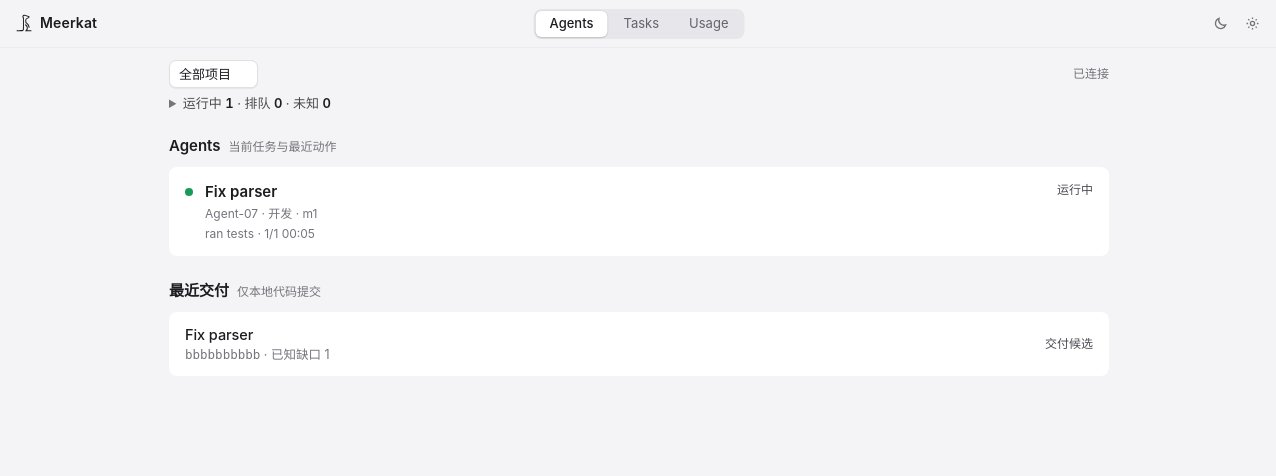
Test case: App › shows stop acceptance separately from a stopped run and reuses the requestId
Click the button with class "row-btn": (241, 191) x1=169 y1=167 x2=1109 y2=256
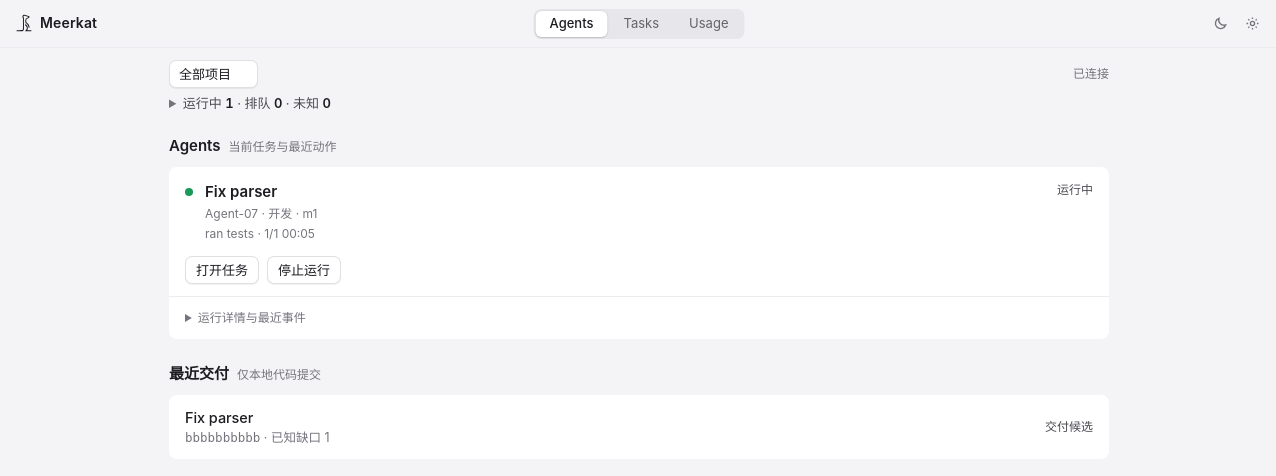
Click the button "停止运行": (304, 270) x1=267 y1=256 x2=341 y2=284
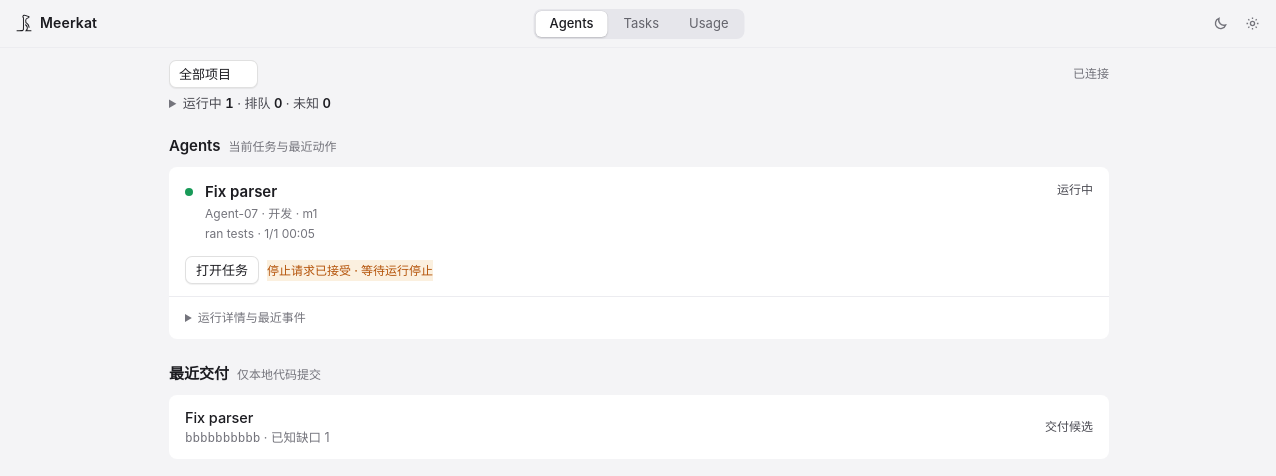
Expected: the text "运行中" is shown, x1=1057 y1=181 x2=1093 y2=199
Result: the text "停止请求已接受 · 等待运行停止" is shown at x1=267 y1=260 x2=433 y2=281
